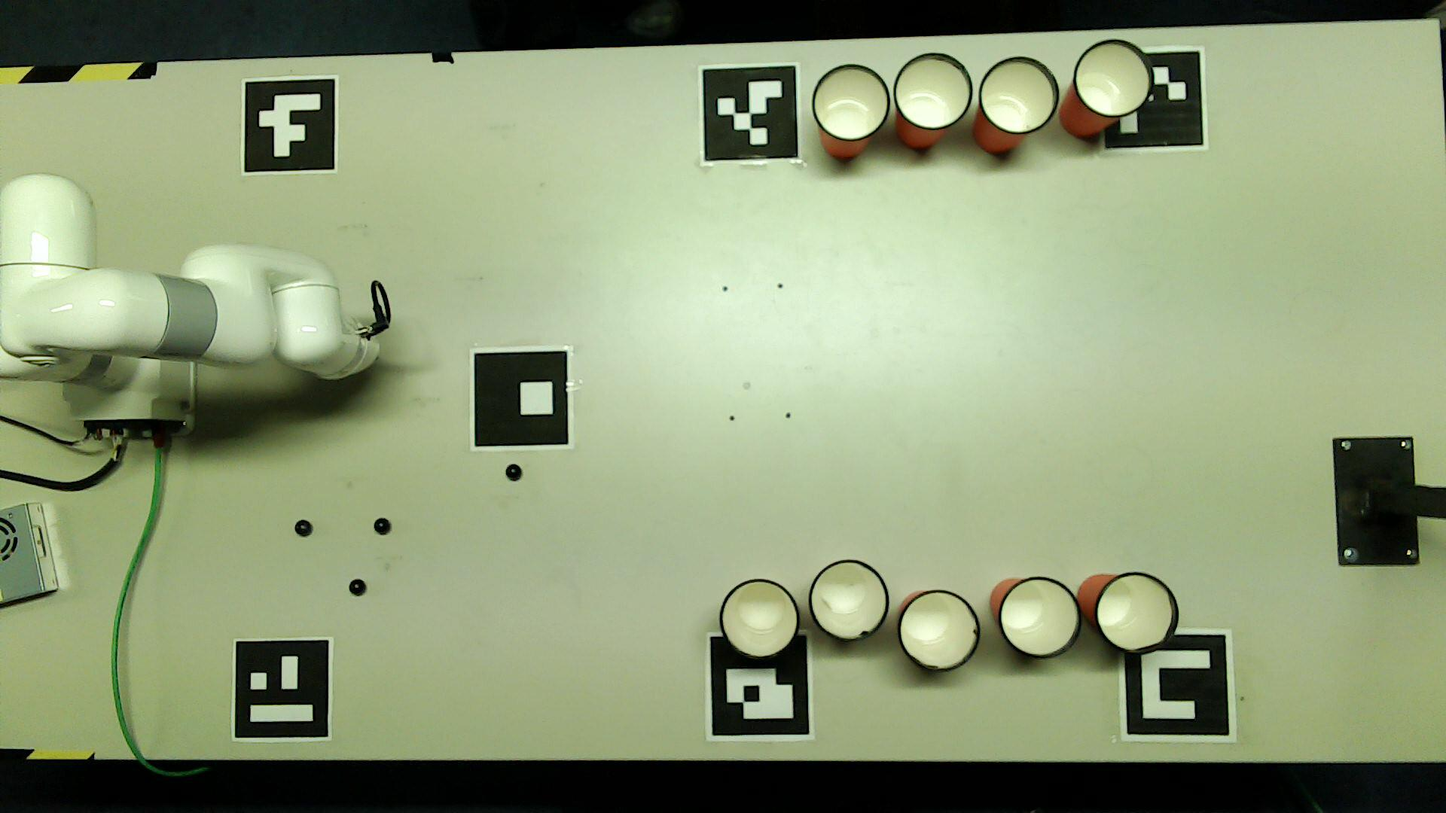ball: (350, 580, 366, 595), (506, 465, 522, 480), (295, 521, 310, 535), (375, 519, 389, 534)
cup: (898, 591, 979, 671), (1001, 578, 1081, 658), (721, 580, 800, 659), (1097, 574, 1176, 653), (810, 561, 888, 641), (813, 66, 889, 140), (895, 55, 971, 129), (981, 58, 1057, 132), (1077, 41, 1152, 115)
